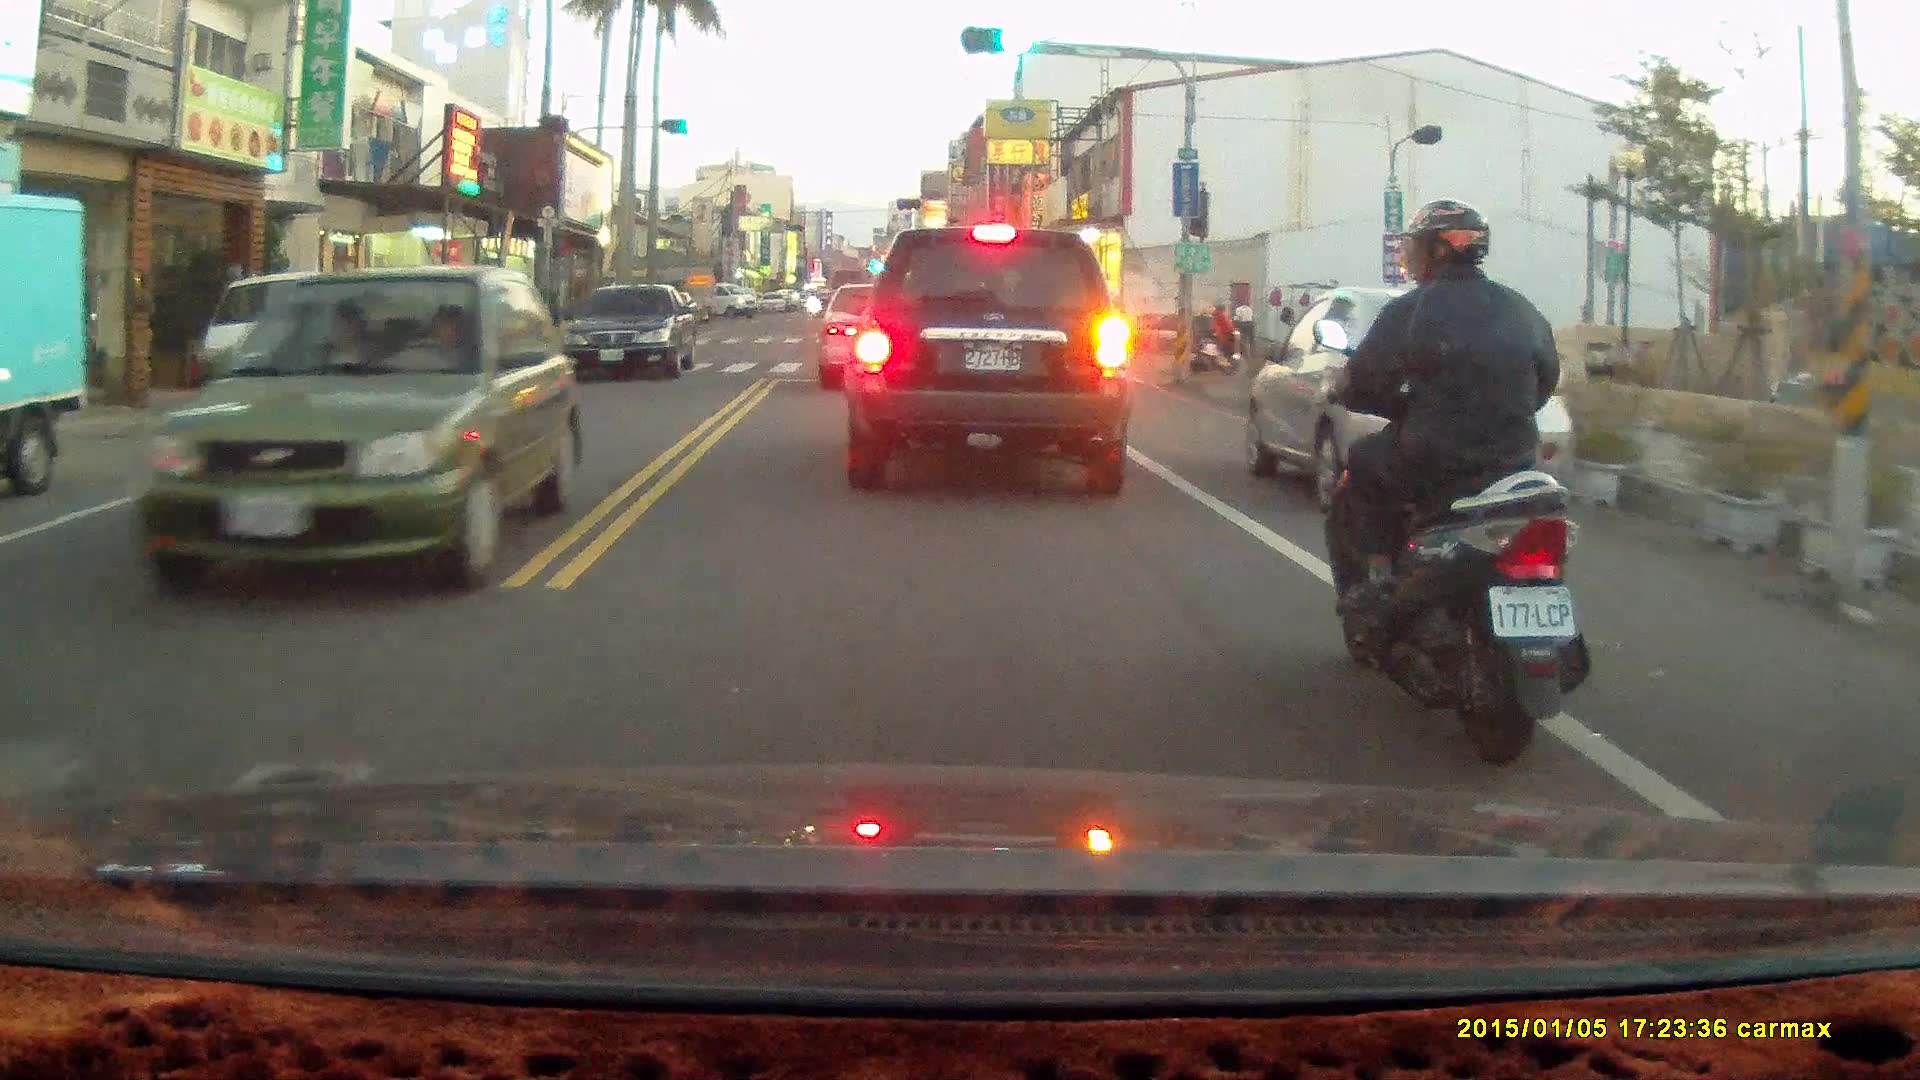pedestrian: (1230, 295, 1256, 362)
rider: (1314, 199, 1593, 772), (1184, 294, 1241, 374)
vehicle: (135, 264, 569, 601), (1240, 289, 1584, 535), (848, 223, 1135, 499), (1, 191, 91, 500), (564, 283, 702, 385), (819, 283, 940, 396)
